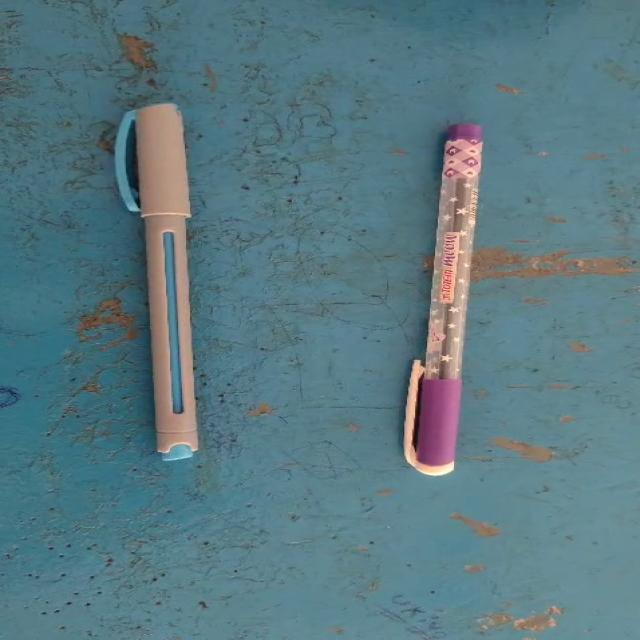pen: (61, 82, 280, 495), (375, 112, 544, 489)
